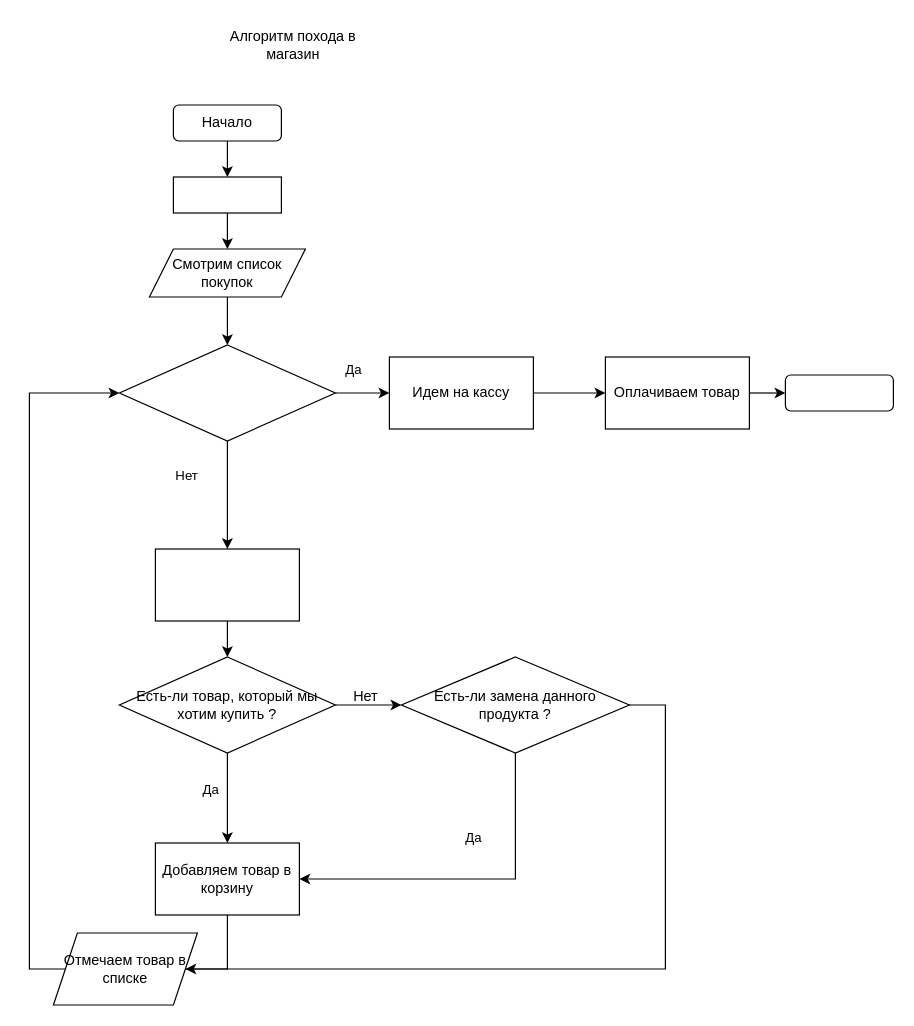
Some shapes in this 914 by 1026 pixel diagram are drawn without their labels. Each missing label, with the centre of its shape:
"Идем в отдел продукта" goes at pixel 226 584.
"Конец" goes at pixel 838 392.
"Приходим в магазин" goes at pixel 226 194.
"Проверили все товары ?" goes at pixel 226 392.
